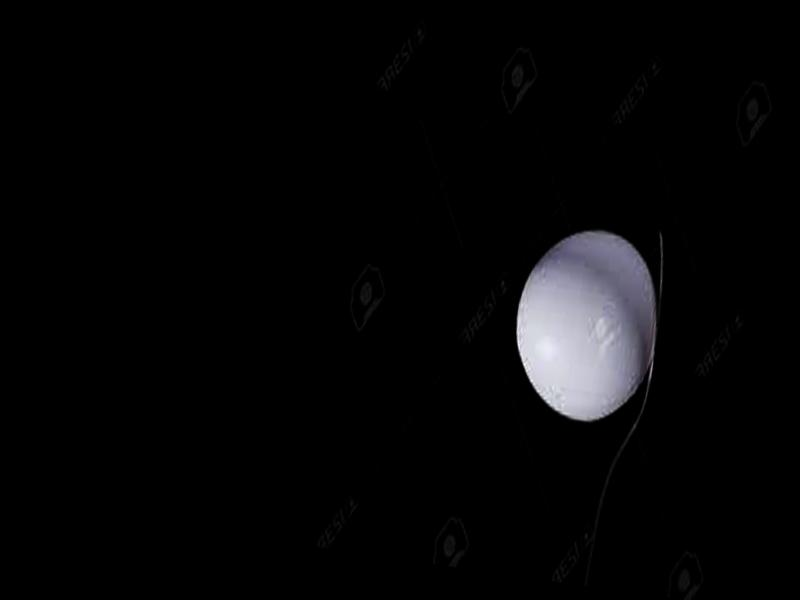Eggs: (504, 219, 670, 430)
